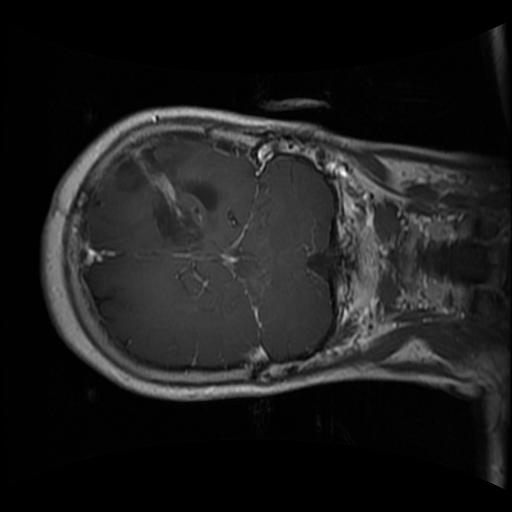glioma: (105, 134, 222, 249)
